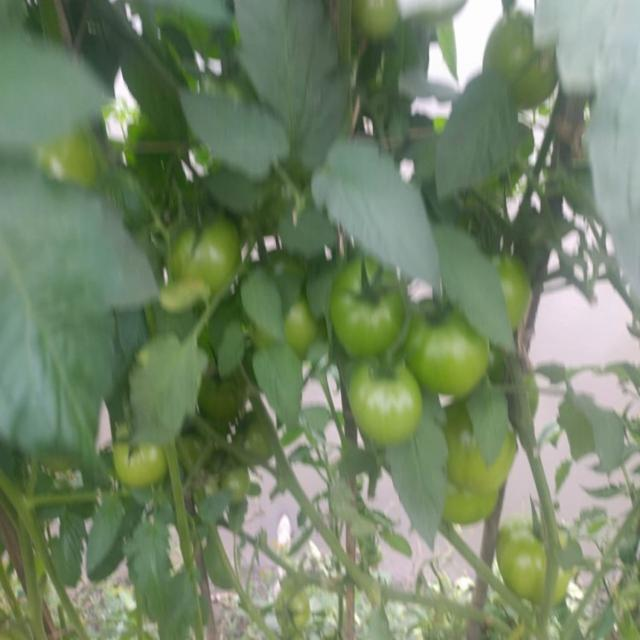tomato: (405, 295, 492, 398), (483, 12, 565, 110), (330, 254, 408, 355), (443, 394, 520, 496), (347, 357, 427, 444), (499, 524, 577, 605), (168, 211, 241, 290), (115, 425, 170, 484), (490, 256, 530, 327), (444, 483, 507, 526), (52, 124, 98, 182), (203, 360, 246, 413), (276, 303, 326, 348), (233, 416, 287, 457), (355, 1, 409, 38), (278, 585, 311, 635), (219, 465, 255, 507)
